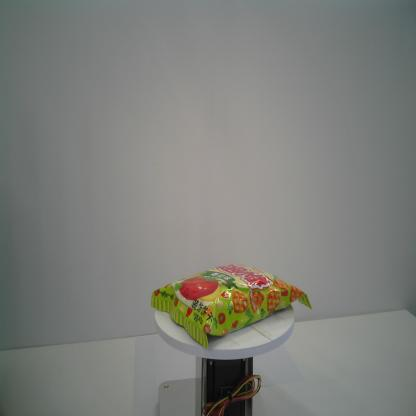Puffed Food: (150, 263, 316, 351)
